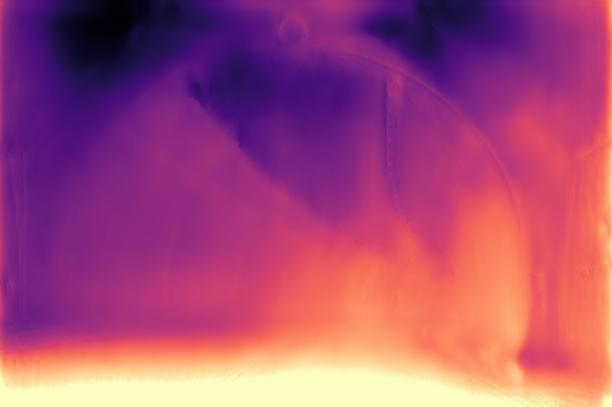Real_Tunnel: (33, 39, 538, 363)
